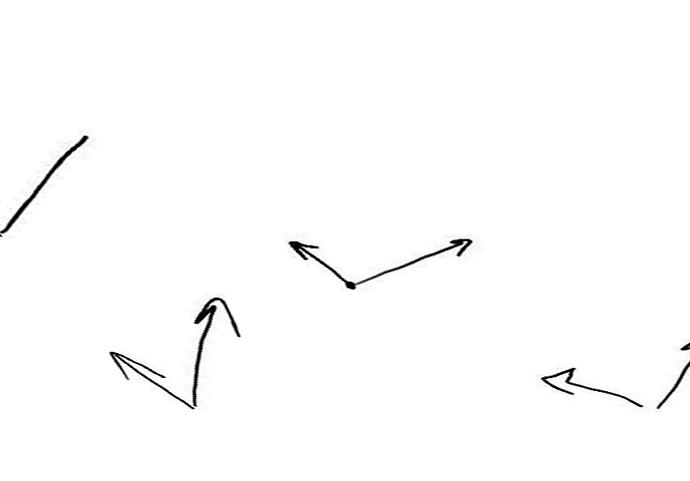arrow: (355, 235, 472, 286), (109, 347, 195, 407), (196, 296, 239, 401), (538, 366, 644, 404), (288, 237, 347, 281)
arrownohead: (4, 131, 92, 230)
